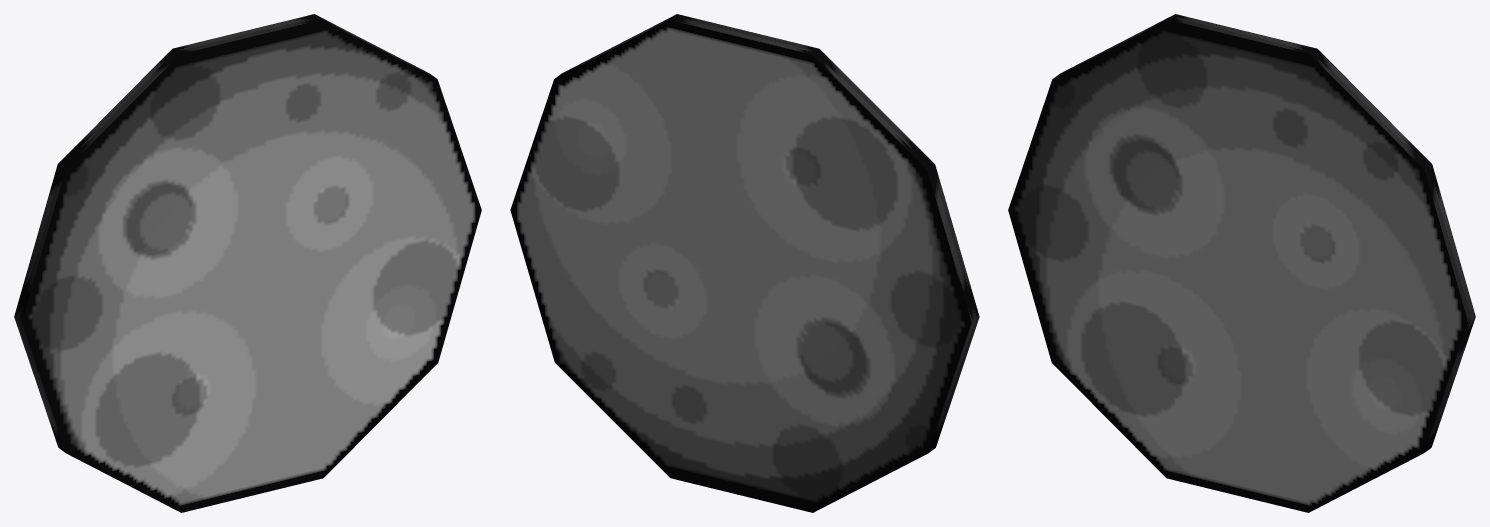
The model's file is Moon.FBX.
3 views of the same model, side by side, from view 1: azimuth 30°, elevation 25°; view 2: azimuth 150°, elevation 25°; view 3: azimuth 330°, elevation 25° (orthographic).
Parts seen in each view (by area): view 1: Cylinder002; view 2: Cylinder002; view 3: Cylinder002.
Boxes of the visible parts, <box> form: Cylinder002: <box>14,14,481,512</box>; Cylinder002: <box>510,14,979,512</box>; Cylinder002: <box>1008,14,1475,512</box>.
Bounding box in the file's own units: 97.59 × 92.83 × 3.32.
1 material, 1 textured.
